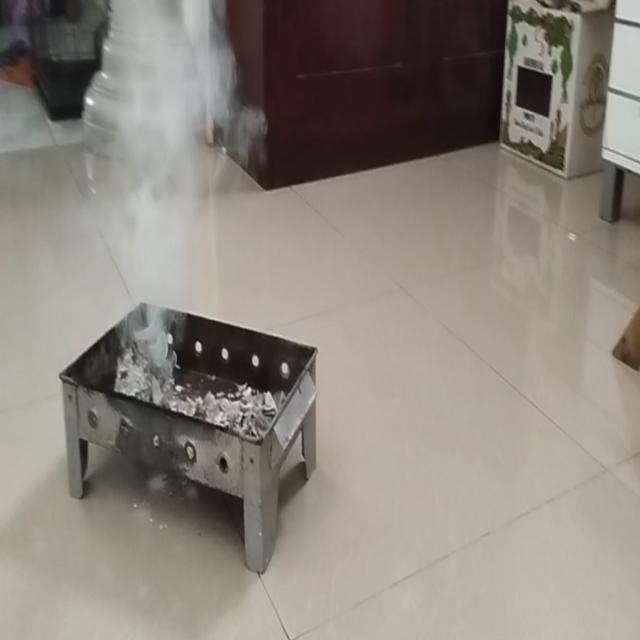smoke: (78, 1, 262, 406)
